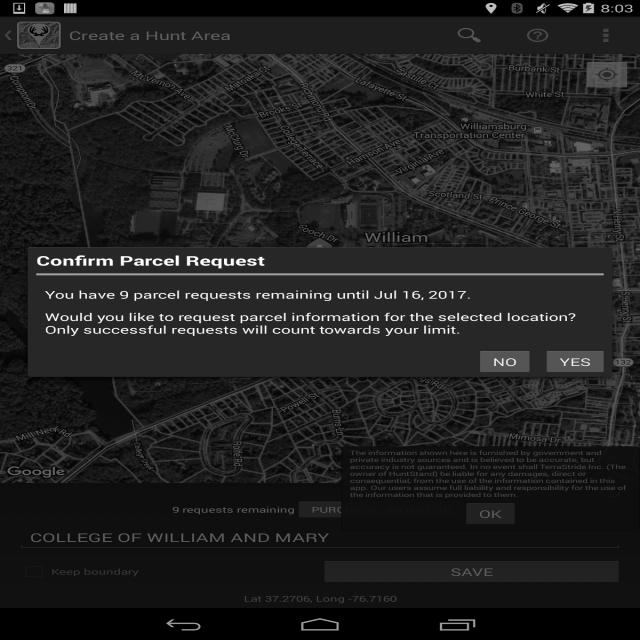TextView: (35, 286, 572, 340), (33, 253, 286, 274), (554, 353, 593, 372), (476, 356, 523, 370)
